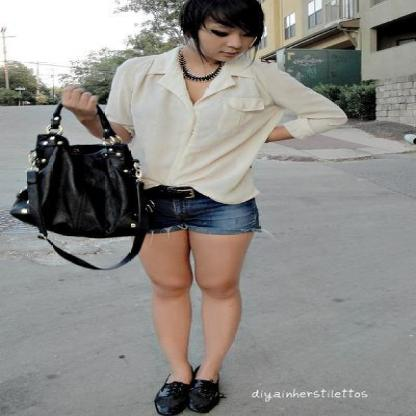bag: (13, 100, 140, 222)
shirt: (99, 46, 351, 204)
shoe: (154, 374, 226, 416)
shorts: (141, 196, 261, 234)
